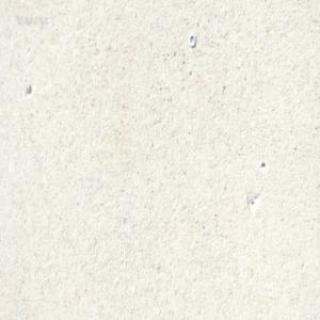Washertrack_idkeyframe: (188, 32, 195, 46)
